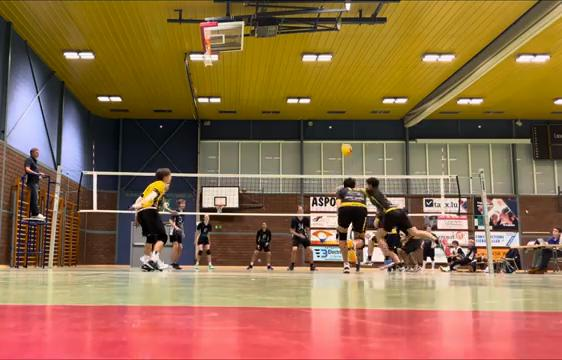difesa: (349, 175, 460, 271), (327, 173, 369, 276)
